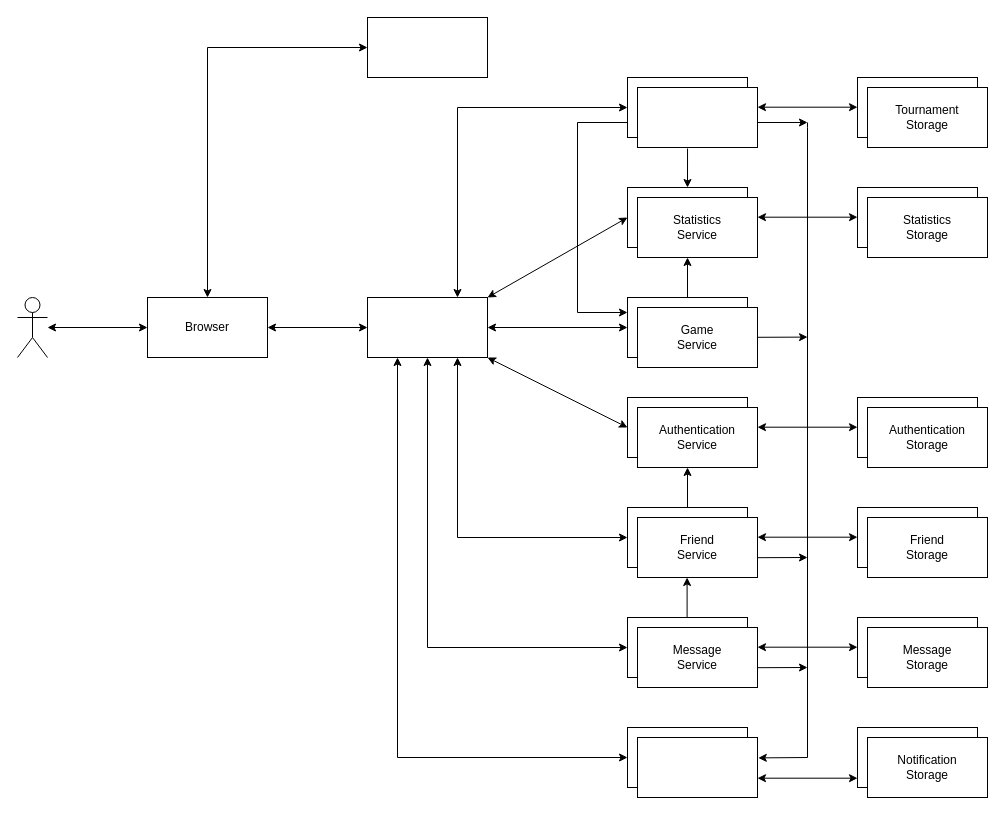
Some shapes in this 1005 by 815 pixel diagram are drawn without their labels. Here are the shapes that lost their labels. From the top down, the centre of each, then its label:
At (x=427, y=47): "Frontend".
At (x=697, y=117): "Tournament Service".
At (x=32, y=327): "User".
At (x=427, y=327): "Backend (reverse proxy)".
At (x=697, y=767): "Notification Service".
